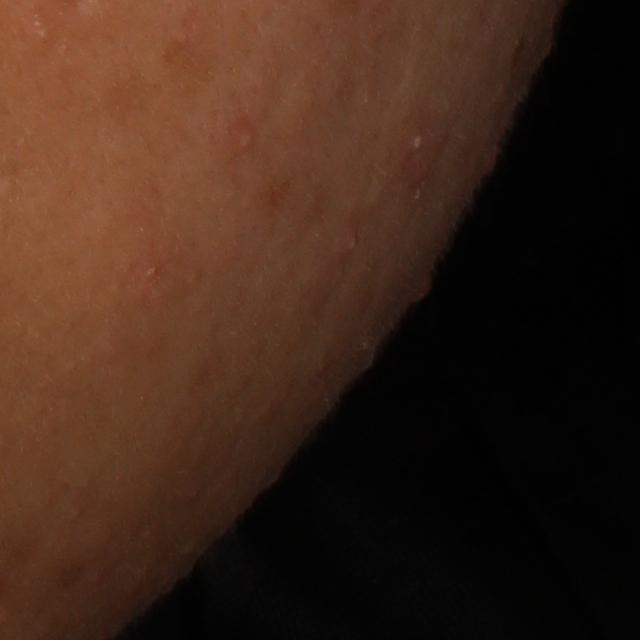comedo: (31, 21, 54, 43)
